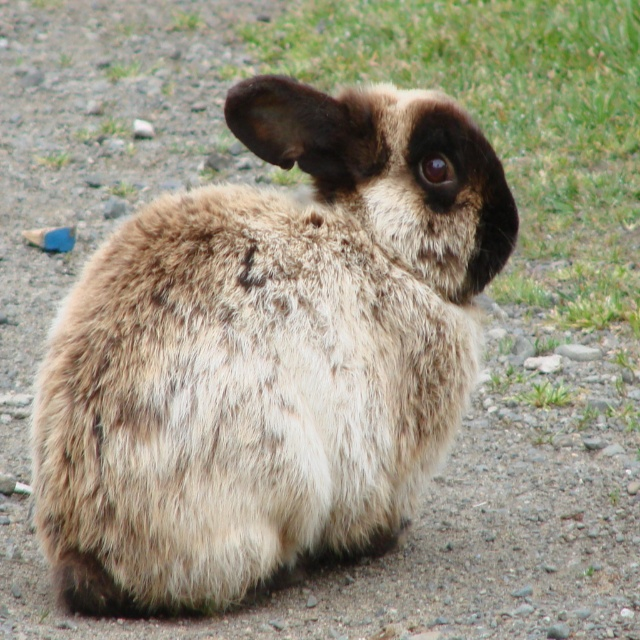Rabbit: (29, 72, 522, 621)
